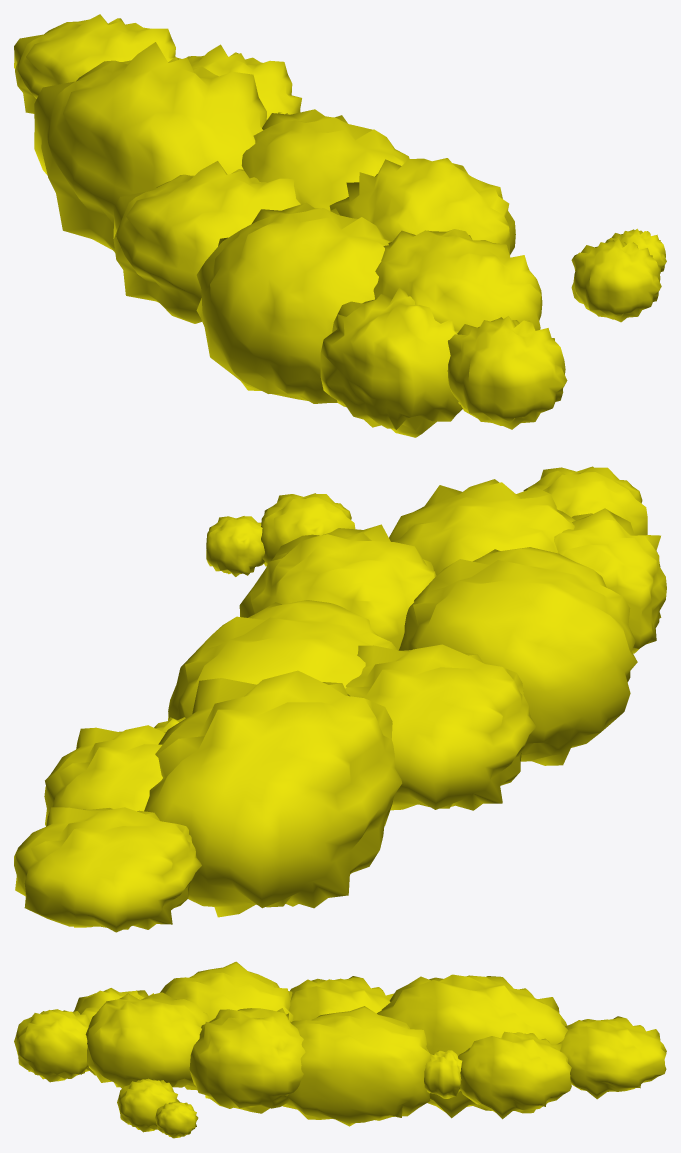
File: CLOUD_TRUE_MEDIUM.fbx
The picture shows the model from 3 angles, top to bottom: view 1: azimuth 30°, elevation 25°; view 2: azimuth 150°, elevation 25°; view 3: azimuth 270°, elevation 25°; orthographic projection. The views are drawn at different scales.
Parts seen in each view (by area): view 1: CLOUD_BASE.012; view 2: CLOUD_BASE.012; view 3: CLOUD_BASE.012.
Part boxes in pixels (x1,y1,x2,y2): CLOUD_BASE.012: [14, 14, 666, 437]; CLOUD_BASE.012: [14, 466, 666, 932]; CLOUD_BASE.012: [14, 961, 666, 1138].
Bounding box in the file's own units: 727 × 321 × 1511.
